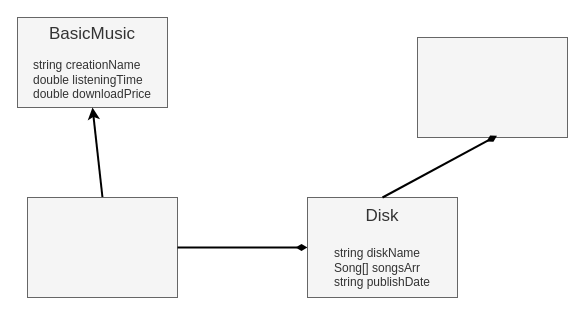
The diagram is 585 pixels wide and 315 high, and some of its shapes have lost their labels. Each missing label, with the centre of its shape:
Song string performerName string authorName string composerName: pixel 102 247
User string subscriberName Disk[] disksArr int diskAmount: pixel 492 87
